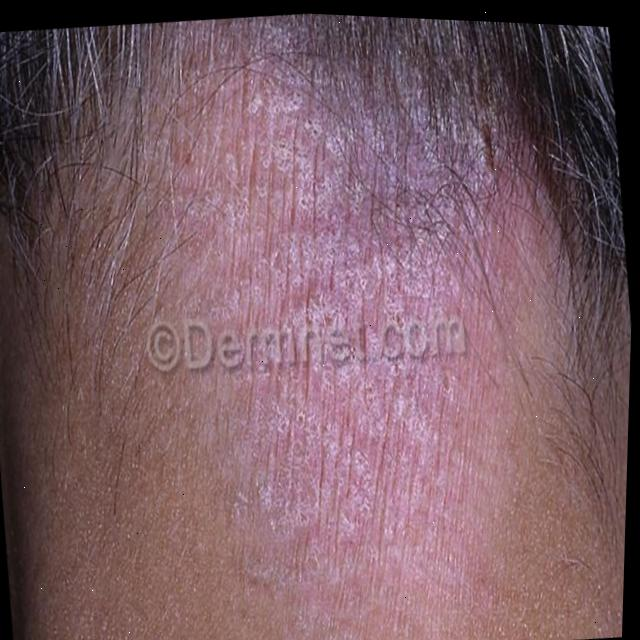Eczema: (154, 86, 487, 557)
